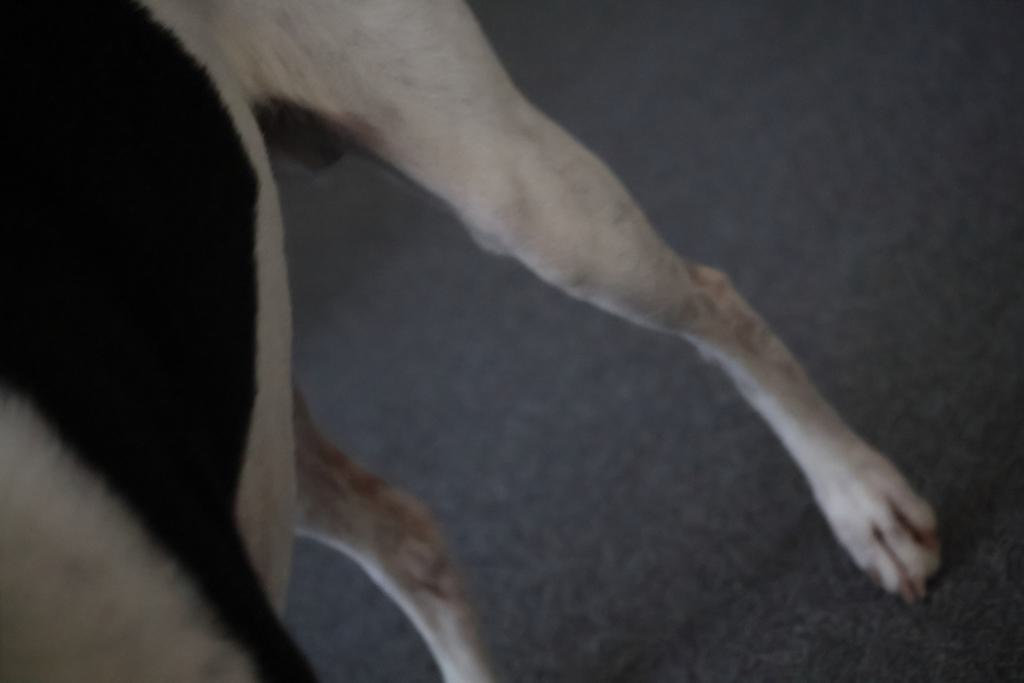Dog: (0, 0, 956, 683)
